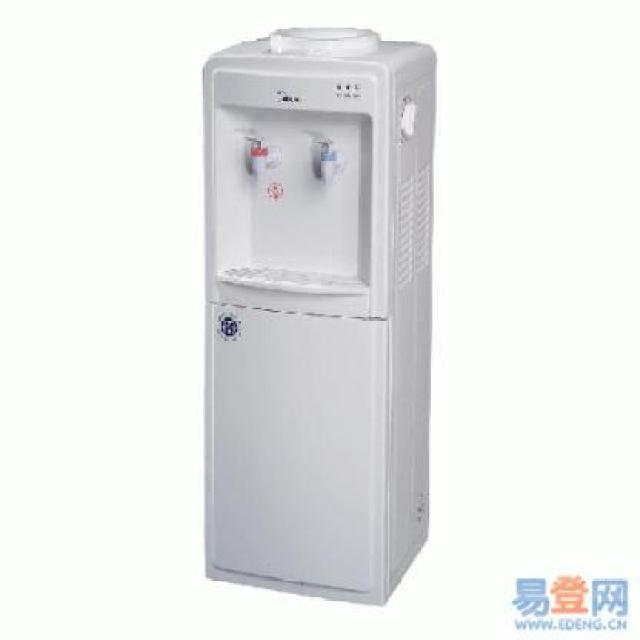cooler: (199, 21, 433, 612)
